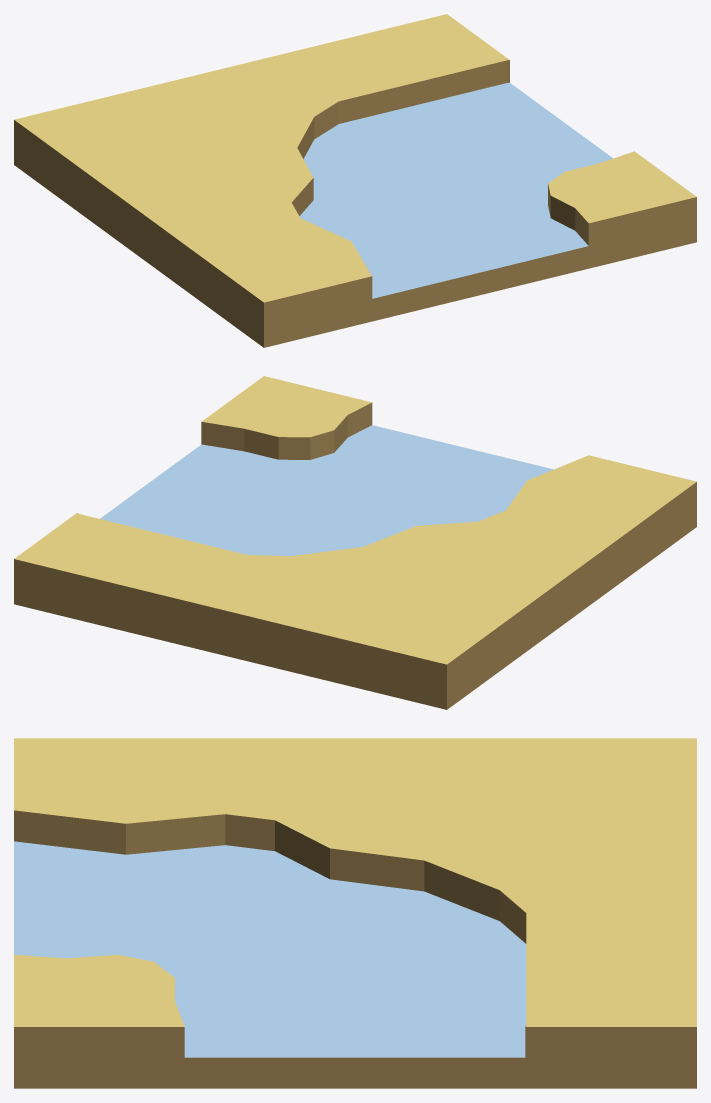
File: Terrain_Modular_Tiles_Sand_Dirt_River_Bend_02.fbx
The picture shows the model from 3 angles, top to bottom: view 1: azimuth 30°, elevation 25°; view 2: azimuth 150°, elevation 25°; view 3: azimuth 270°, elevation 25°; orthographic projection. The views are drawn at different scales.
Visible parts, largest first — view 1: Terrain_Modular_Tiles_Sand_Dirt_River_Bend_02; view 2: Terrain_Modular_Tiles_Sand_Dirt_River_Bend_02; view 3: Terrain_Modular_Tiles_Sand_Dirt_River_Bend_02.
Boxes of the visible parts, x1,y1,x2,y2 form: Terrain_Modular_Tiles_Sand_Dirt_River_Bend_02: (14,14,696,347); Terrain_Modular_Tiles_Sand_Dirt_River_Bend_02: (14,376,696,709); Terrain_Modular_Tiles_Sand_Dirt_River_Bend_02: (14,738,696,1088).
Bounding box in the file's own units: 118 × 11.81 × 118.
